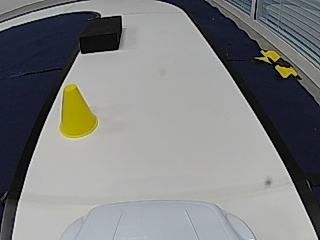block: (79, 15, 122, 53)
cone: (59, 84, 99, 139)
